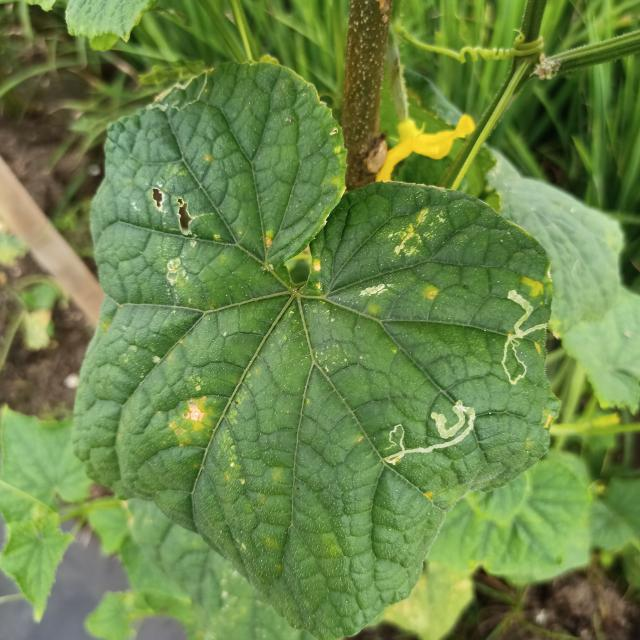disease_cucumber: (146, 185, 204, 294), (379, 206, 448, 262), (358, 274, 447, 308), (168, 394, 206, 444), (521, 273, 549, 299), (309, 256, 326, 294), (263, 234, 278, 256), (544, 414, 552, 431)
